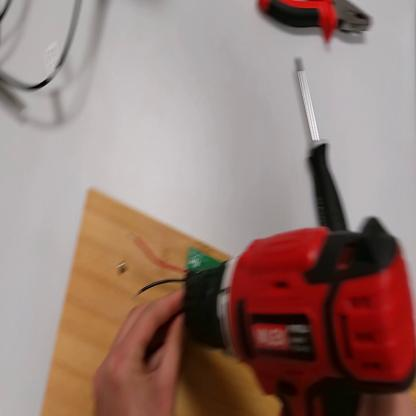electric screwdriver: (178, 215, 415, 416)
hand: (94, 288, 186, 412), (358, 392, 415, 415)
high voltage board: (119, 239, 222, 305)
pliers: (256, 4, 376, 47)
working area: (35, 186, 416, 415)
